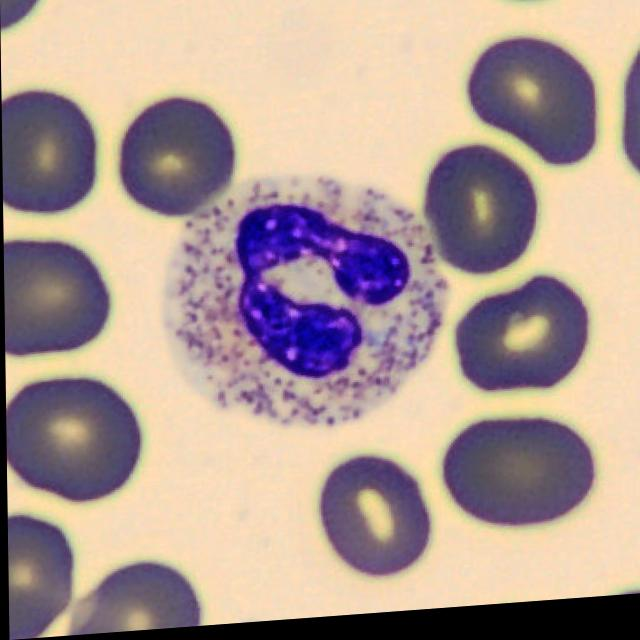Neutrofilo segmentado: (177, 179, 446, 433)
